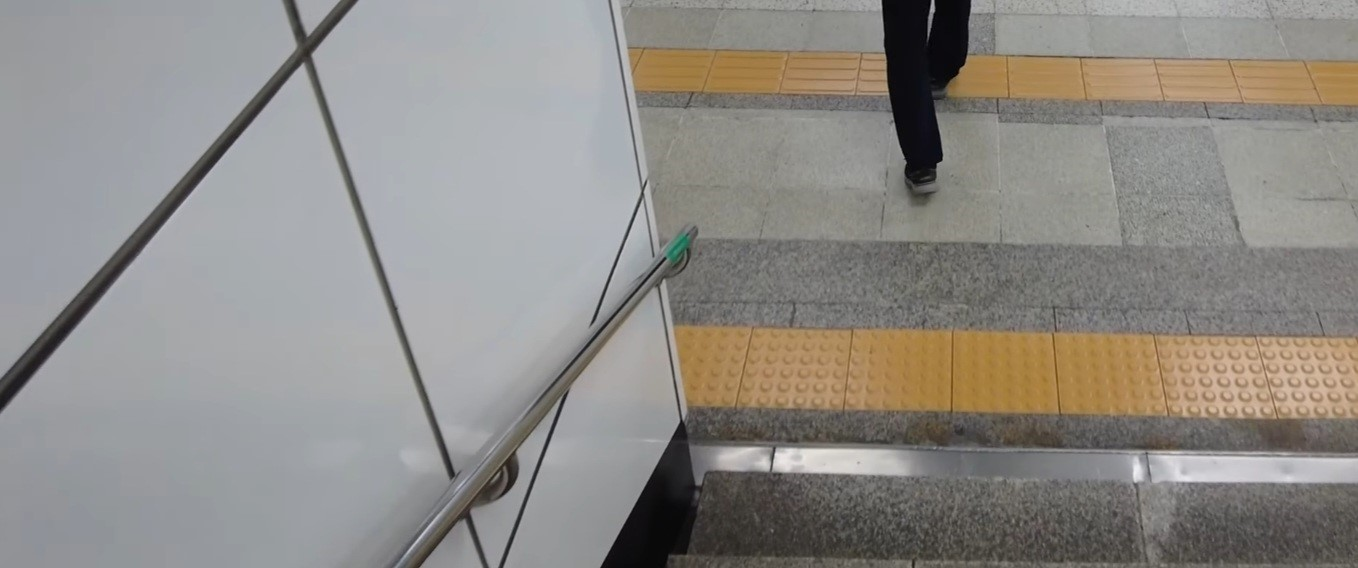warningBlock: (741, 326, 853, 410), (1159, 335, 1268, 415), (953, 334, 1058, 416), (1058, 337, 1155, 416), (1270, 335, 1358, 419), (861, 334, 949, 404), (667, 319, 741, 399)
